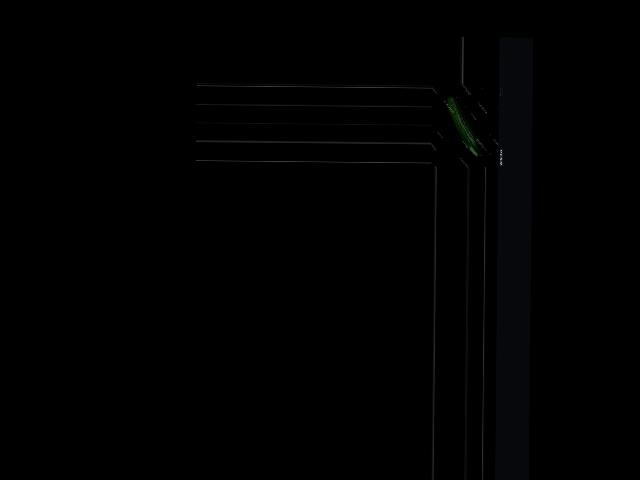cucumber: (446, 95, 485, 156)
